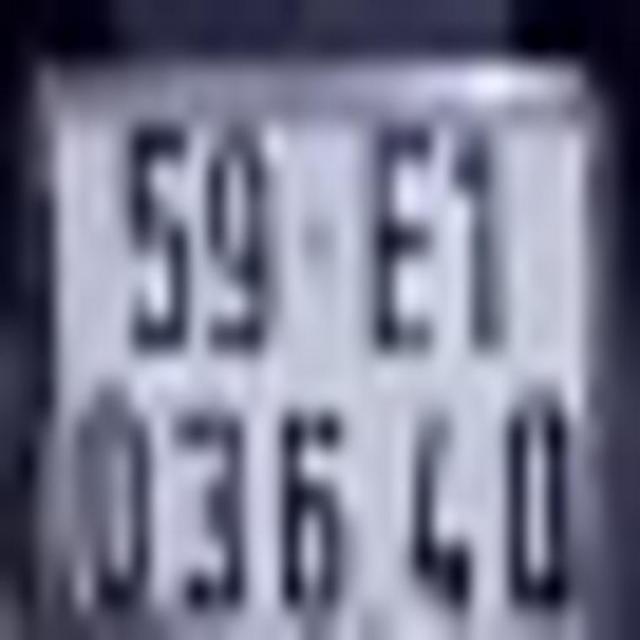0: (86, 397, 158, 600), (509, 406, 571, 606)
1: (447, 134, 499, 352)
3: (185, 418, 243, 612)
4: (409, 418, 471, 607)
5: (131, 115, 189, 348)
6: (278, 412, 341, 612)
9: (204, 122, 270, 353)
E: (374, 124, 436, 356)
